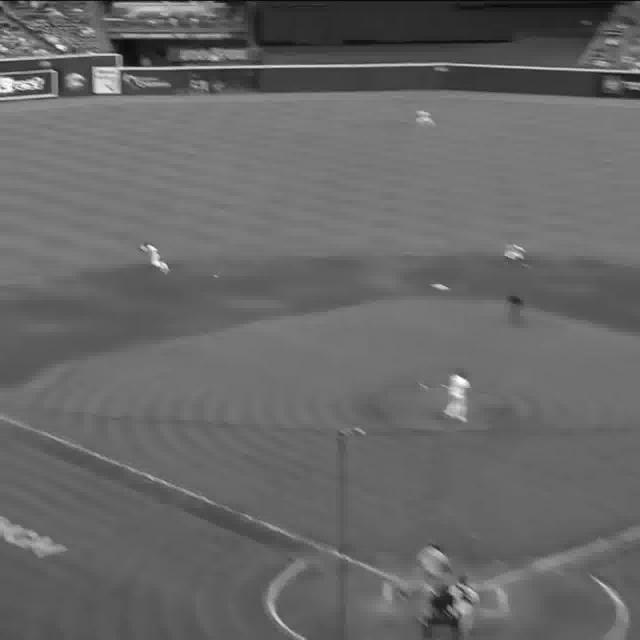base: (431, 284, 450, 291)
baseball: (214, 273, 222, 280)
shoe: (454, 416, 468, 424)
